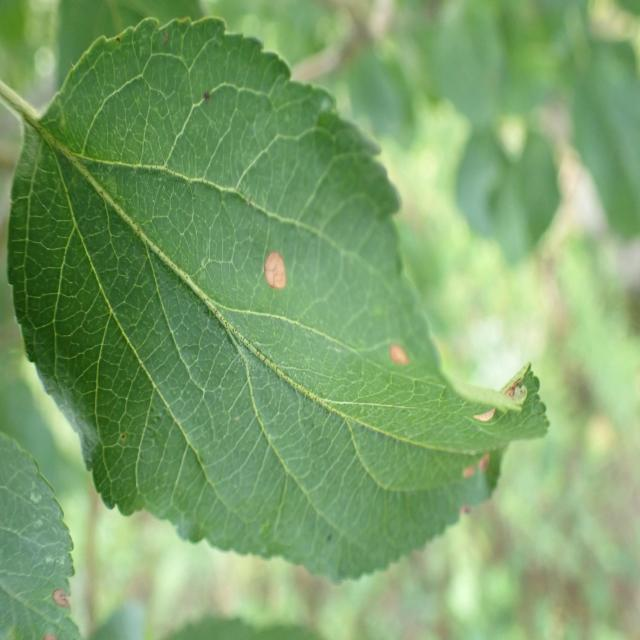Black Rot: (442, 449, 507, 520), (449, 390, 506, 432), (260, 243, 294, 308), (386, 336, 414, 384)
